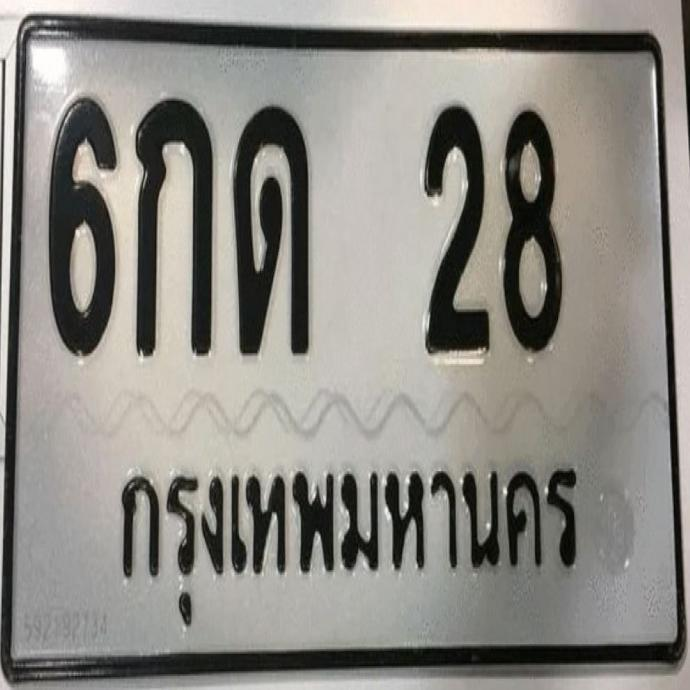2: (419, 99, 490, 353)
6: (45, 91, 120, 354)
8: (500, 103, 562, 351)
A01: (130, 93, 214, 354)
A20: (230, 100, 312, 354)
BKK: (103, 430, 592, 634)
